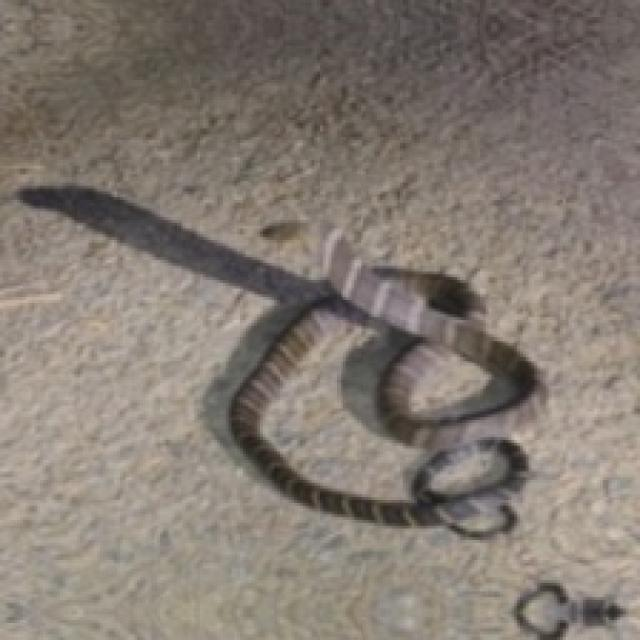king cobra: (17, 186, 534, 534), (260, 326, 431, 500)
